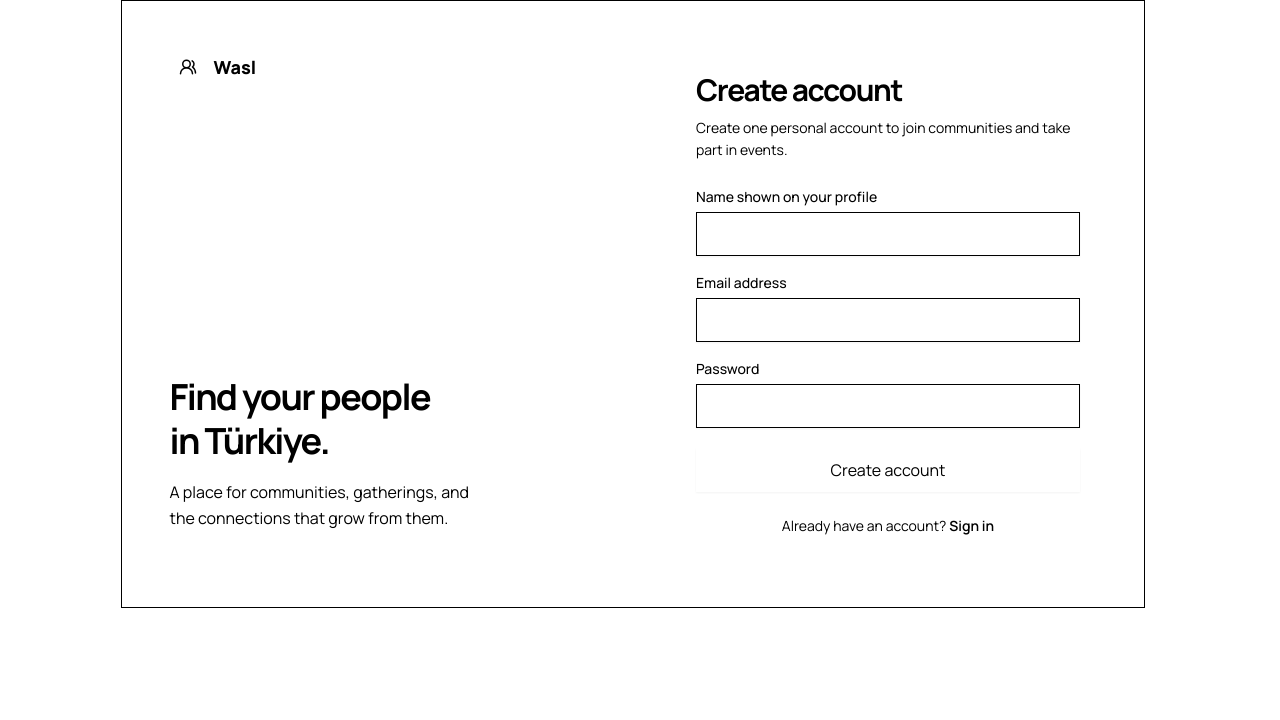
Test: AuthPage › confirms when sign-up requires an email link
Step 1. Type "New Member" into the field labelled "Name shown on your profile" → (888, 234), box [696,212,1080,256]
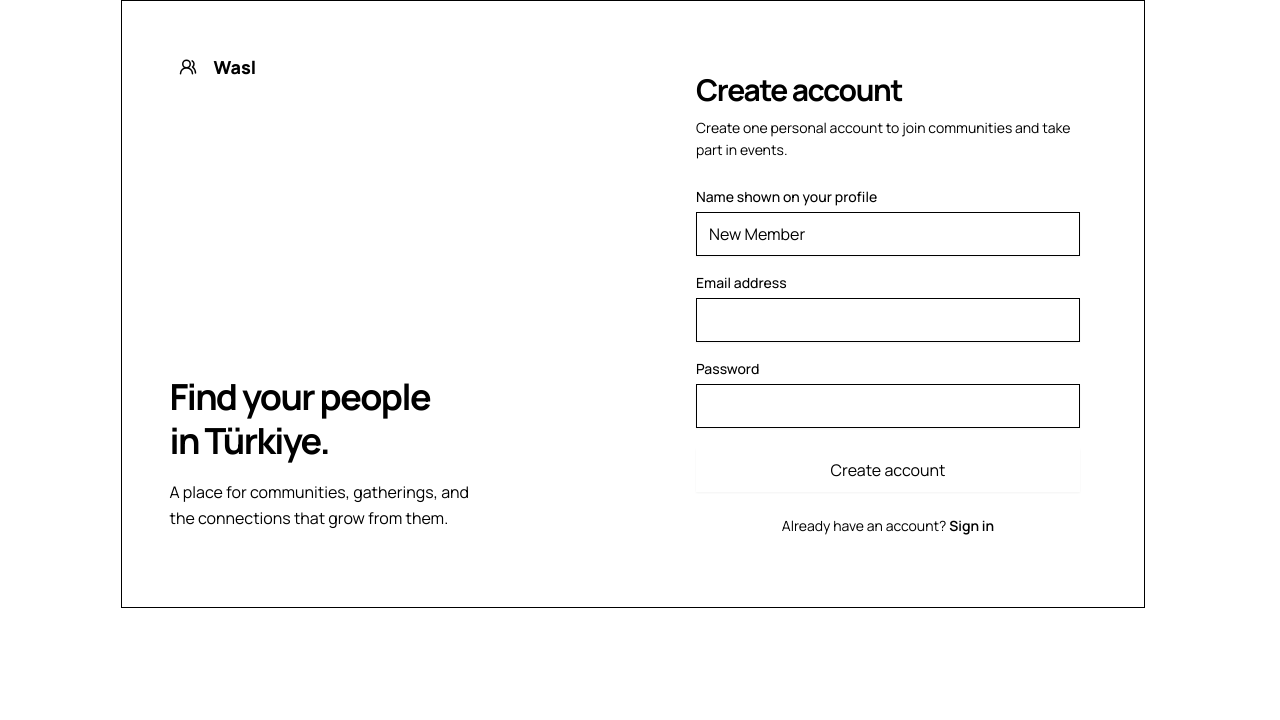
Step 2. Type "new@example.com" into the field labelled "Email address" → (888, 320), box [696,298,1080,342]
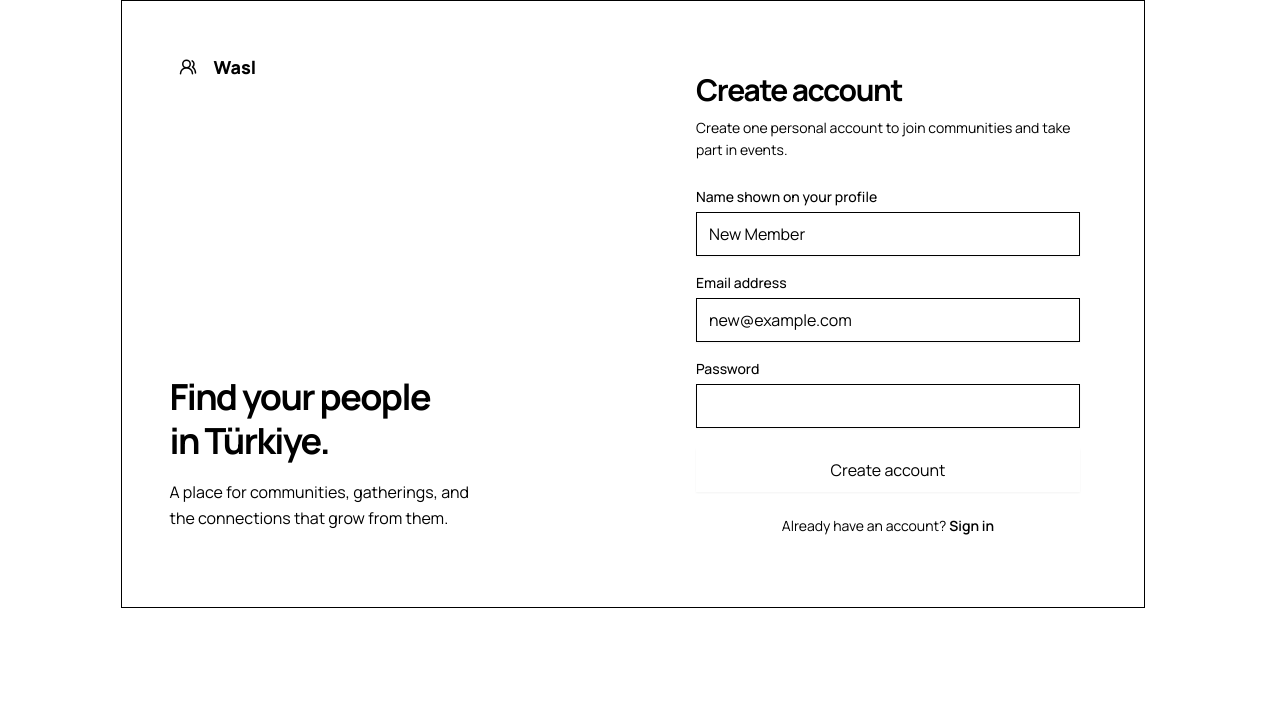
Step 3. Type "long-enough-password" into the password field labelled "Password" → (888, 406), box [696,384,1080,428]
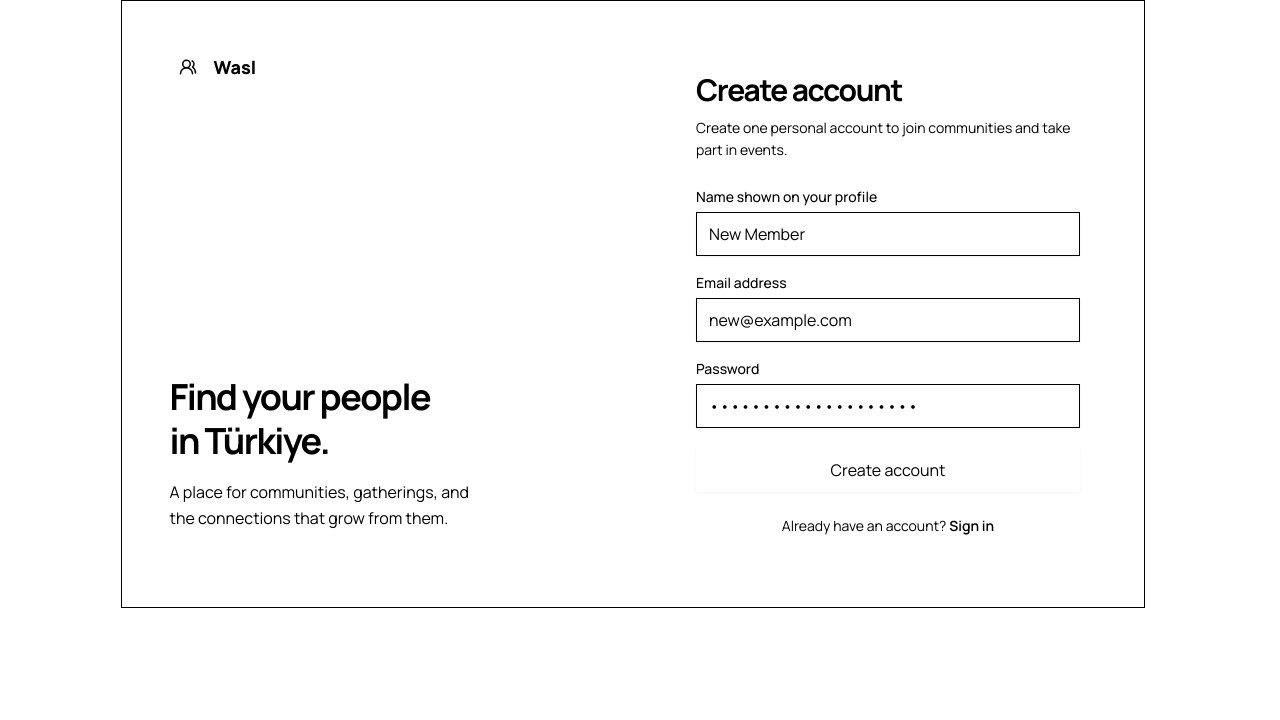
Step 4. Click the button "Create account" → click(888, 470), box [696,448,1080,492]
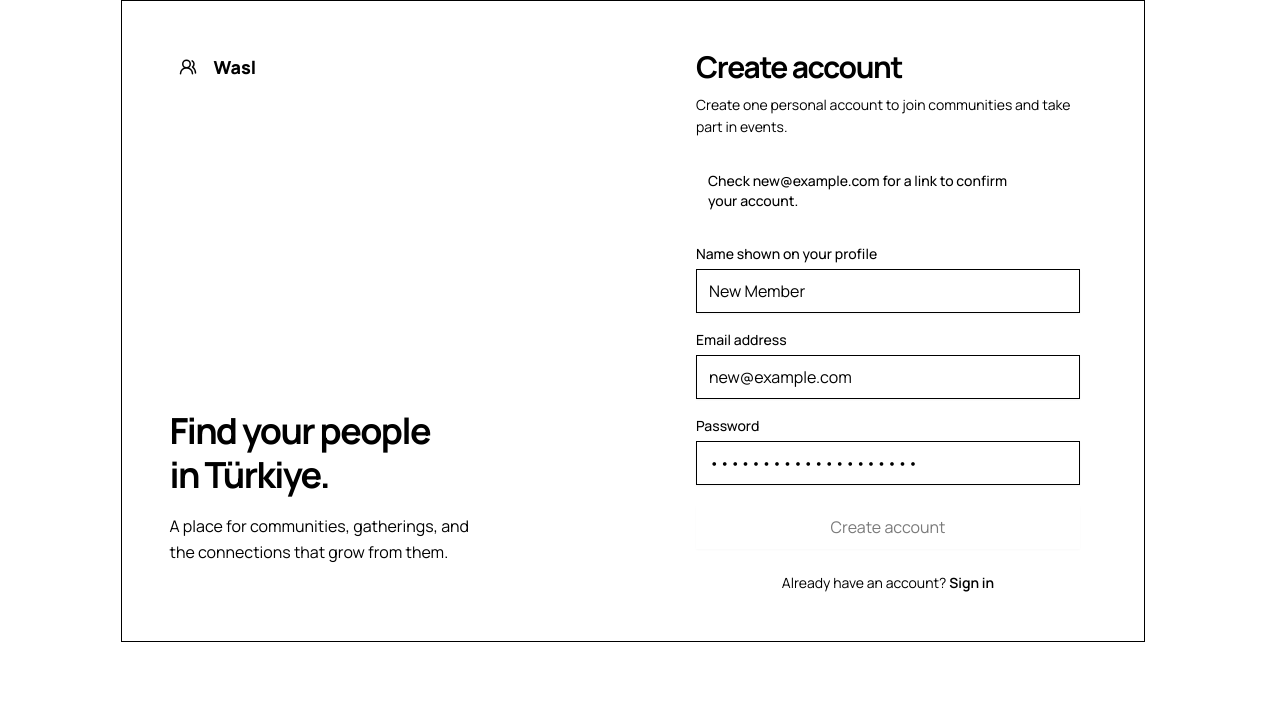
Expected: the message shows "Check new@example.com", [708,171,1007,210]
